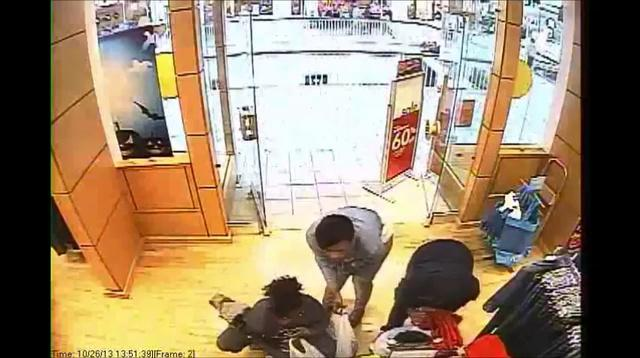Product: (422, 320, 468, 358)
Regular: (298, 202, 393, 289)
Shoplifting: (202, 245, 339, 358), (372, 238, 489, 358)
